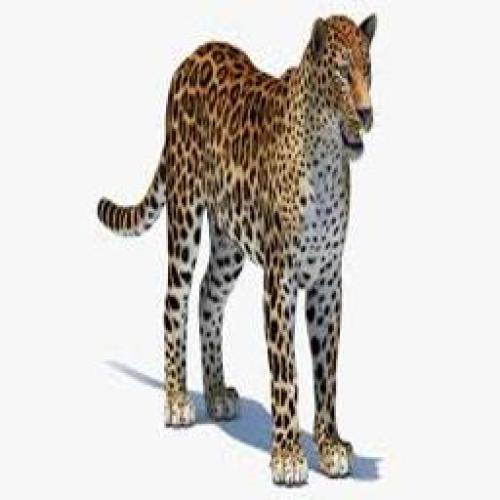amur_leopard-endangered: (99, 12, 379, 483)
